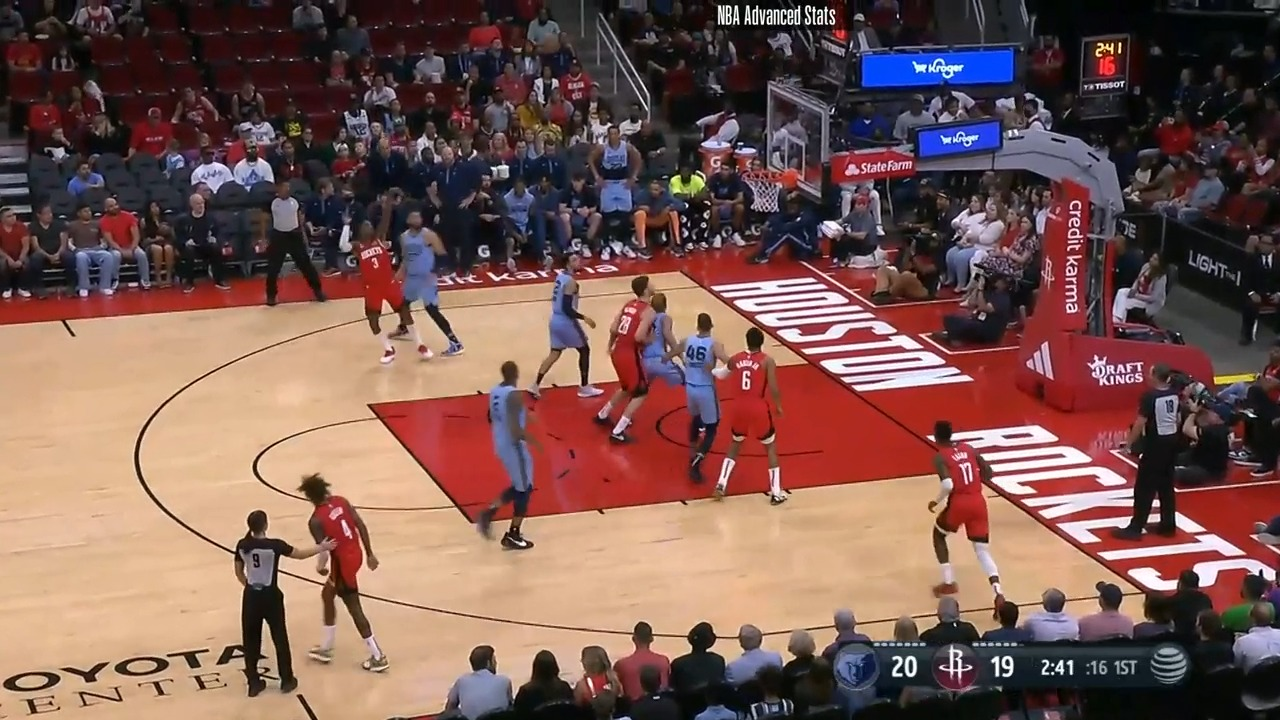net: (743, 164, 806, 223)
player: (291, 472, 387, 682), (916, 420, 1010, 616), (699, 319, 791, 507), (480, 362, 552, 558), (595, 271, 664, 445), (607, 293, 683, 445), (533, 249, 607, 404), (350, 213, 422, 366), (396, 206, 466, 359), (675, 311, 729, 495)
referee: (236, 506, 311, 699), (1119, 364, 1190, 544), (255, 177, 329, 313)
